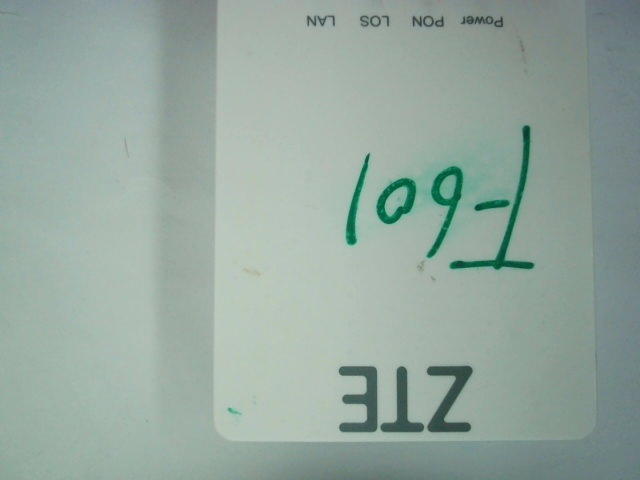AN_ZTE: (329, 344, 474, 433)
